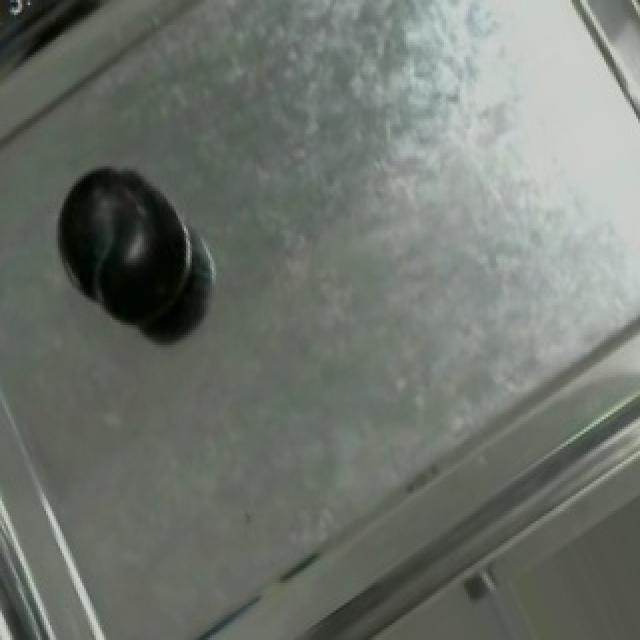Fruit: (36, 146, 216, 350)
